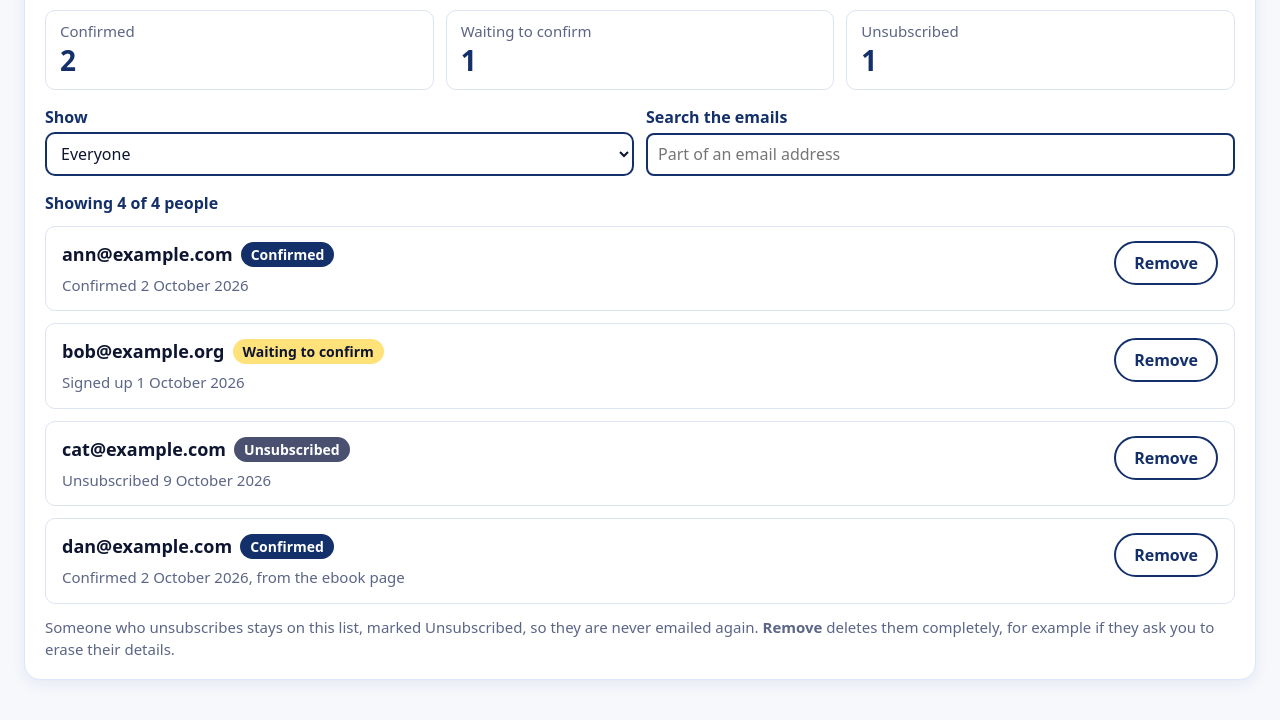
Scenario: who is signed up › removes a person for good, only after asking, with words that say what that means
The image size is (1280, 720).
(page scrolled)
Expected: the text "Showing 4 of 4 people" is shown, [45,192,218,214]
What coordinates should you click on to do the following:
click the button with aria-label "Remove bob@example.org for good"
I would click on:
 (1166, 360)
Its box is [1114,338,1218,382].
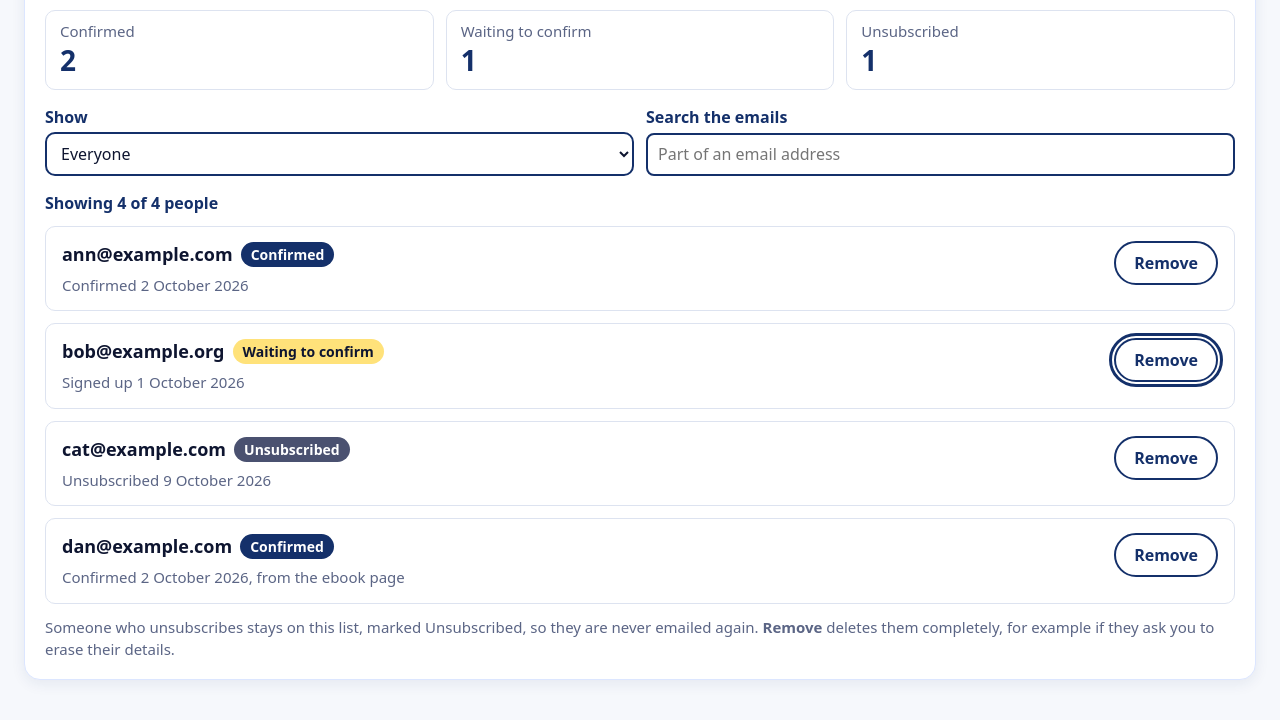
Expected: the text "bob@example.org" is shown, [62,338,224,365]
What coordinates should you click on to do the following:
click the button with aria-label "Remove bob@example.org for good"
I would click on:
 (1166, 360)
Its box is [1114,338,1218,382].
(page scrolled)
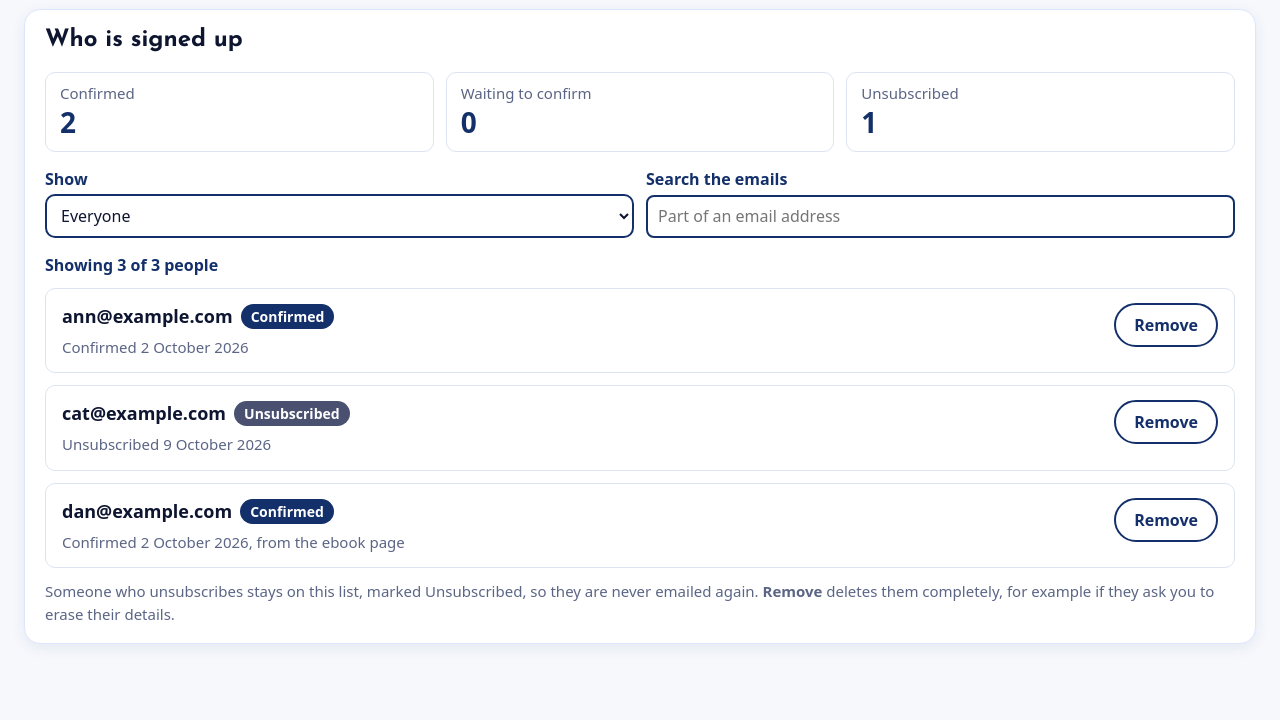
Expected: the text "bob@example.org" is not shown
Result: the text "Showing 3 of 3 people" is shown at [45,254,218,276]
